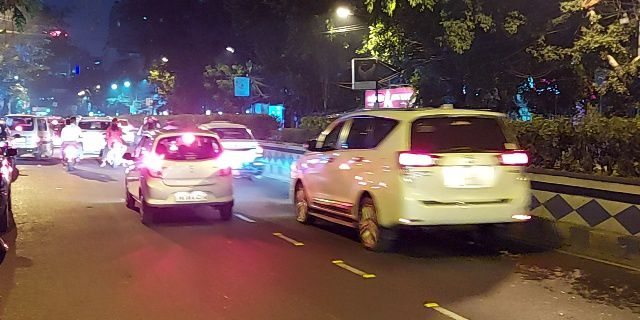Car: (304, 110, 534, 250), (135, 130, 237, 223)
Motorbike: (62, 116, 86, 173)
